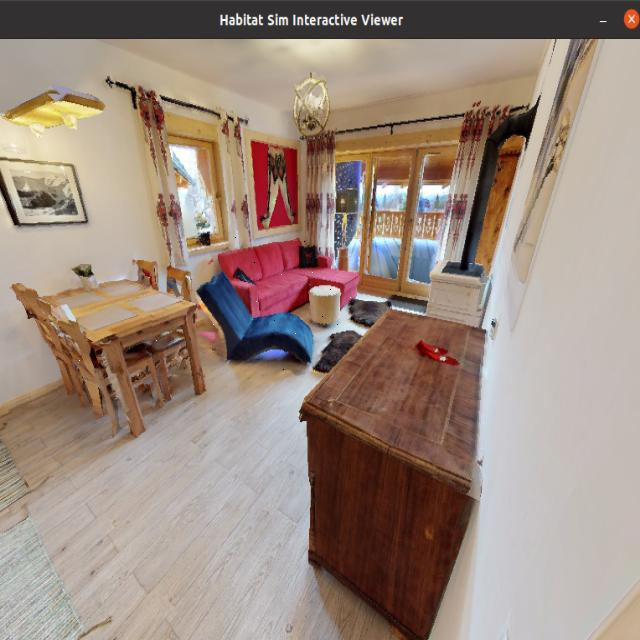chair: (58, 282, 152, 438)
sofa: (207, 235, 368, 325), (202, 276, 320, 374)
table: (15, 265, 233, 448)
